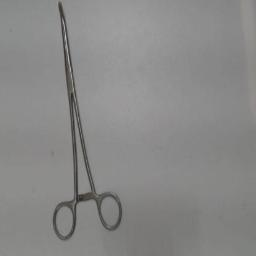Lahey Forceps: (48, 2, 126, 244)
